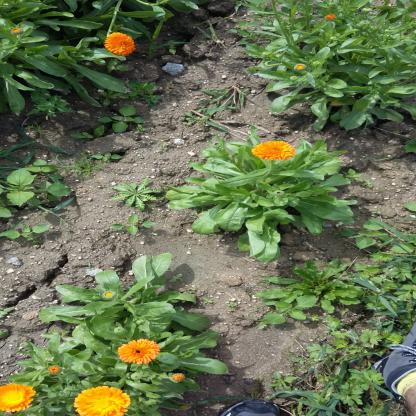marigold: (387, 286, 415, 340), (340, 257, 363, 299), (384, 382, 412, 415), (140, 123, 160, 163), (33, 278, 56, 312)
